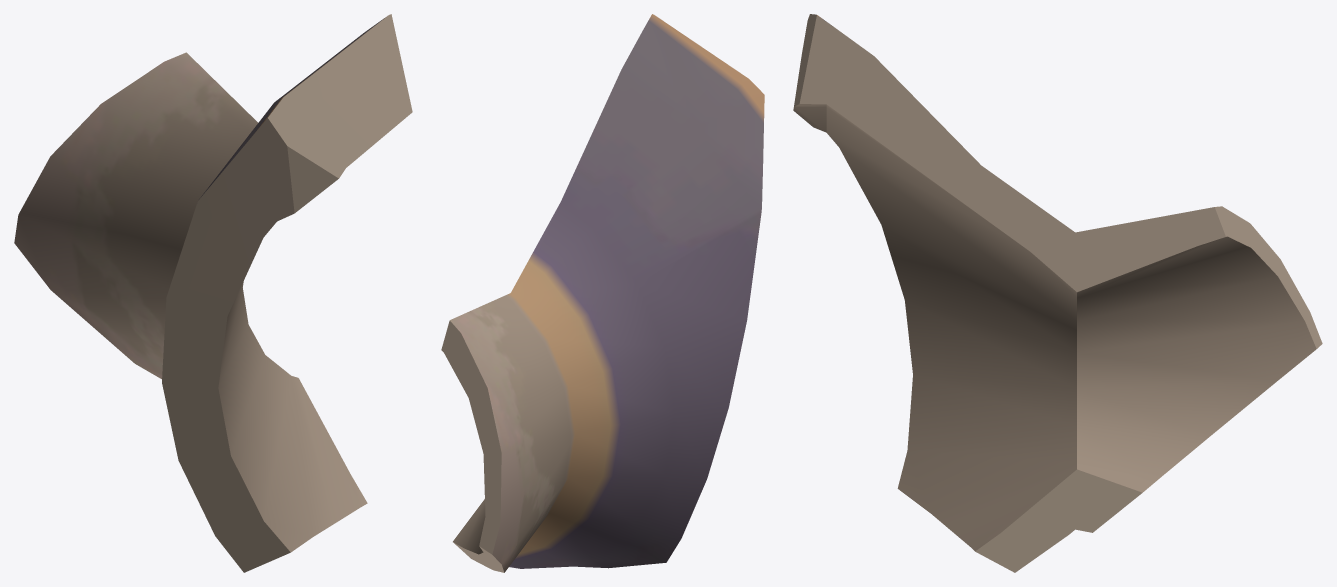
File: Pot_Cell8.fbx
The picture shows the model from 3 angles, left to right: view 1: azimuth 30°, elevation 25°; view 2: azimuth 150°, elevation 25°; view 3: azimuth 270°, elevation 25°; orthographic projection. The views are drawn at different scales.
Parts seen in each view (by area): view 1: jar1_cell.008; view 2: jar1_cell.008; view 3: jar1_cell.008.
Boxes of the visible parts, bbox=[...] form: jar1_cell.008: bbox=[14, 14, 412, 572]; jar1_cell.008: bbox=[441, 14, 764, 572]; jar1_cell.008: bbox=[793, 14, 1322, 572].
Bounding box in the file's own units: 68.28 × 164 × 149.
